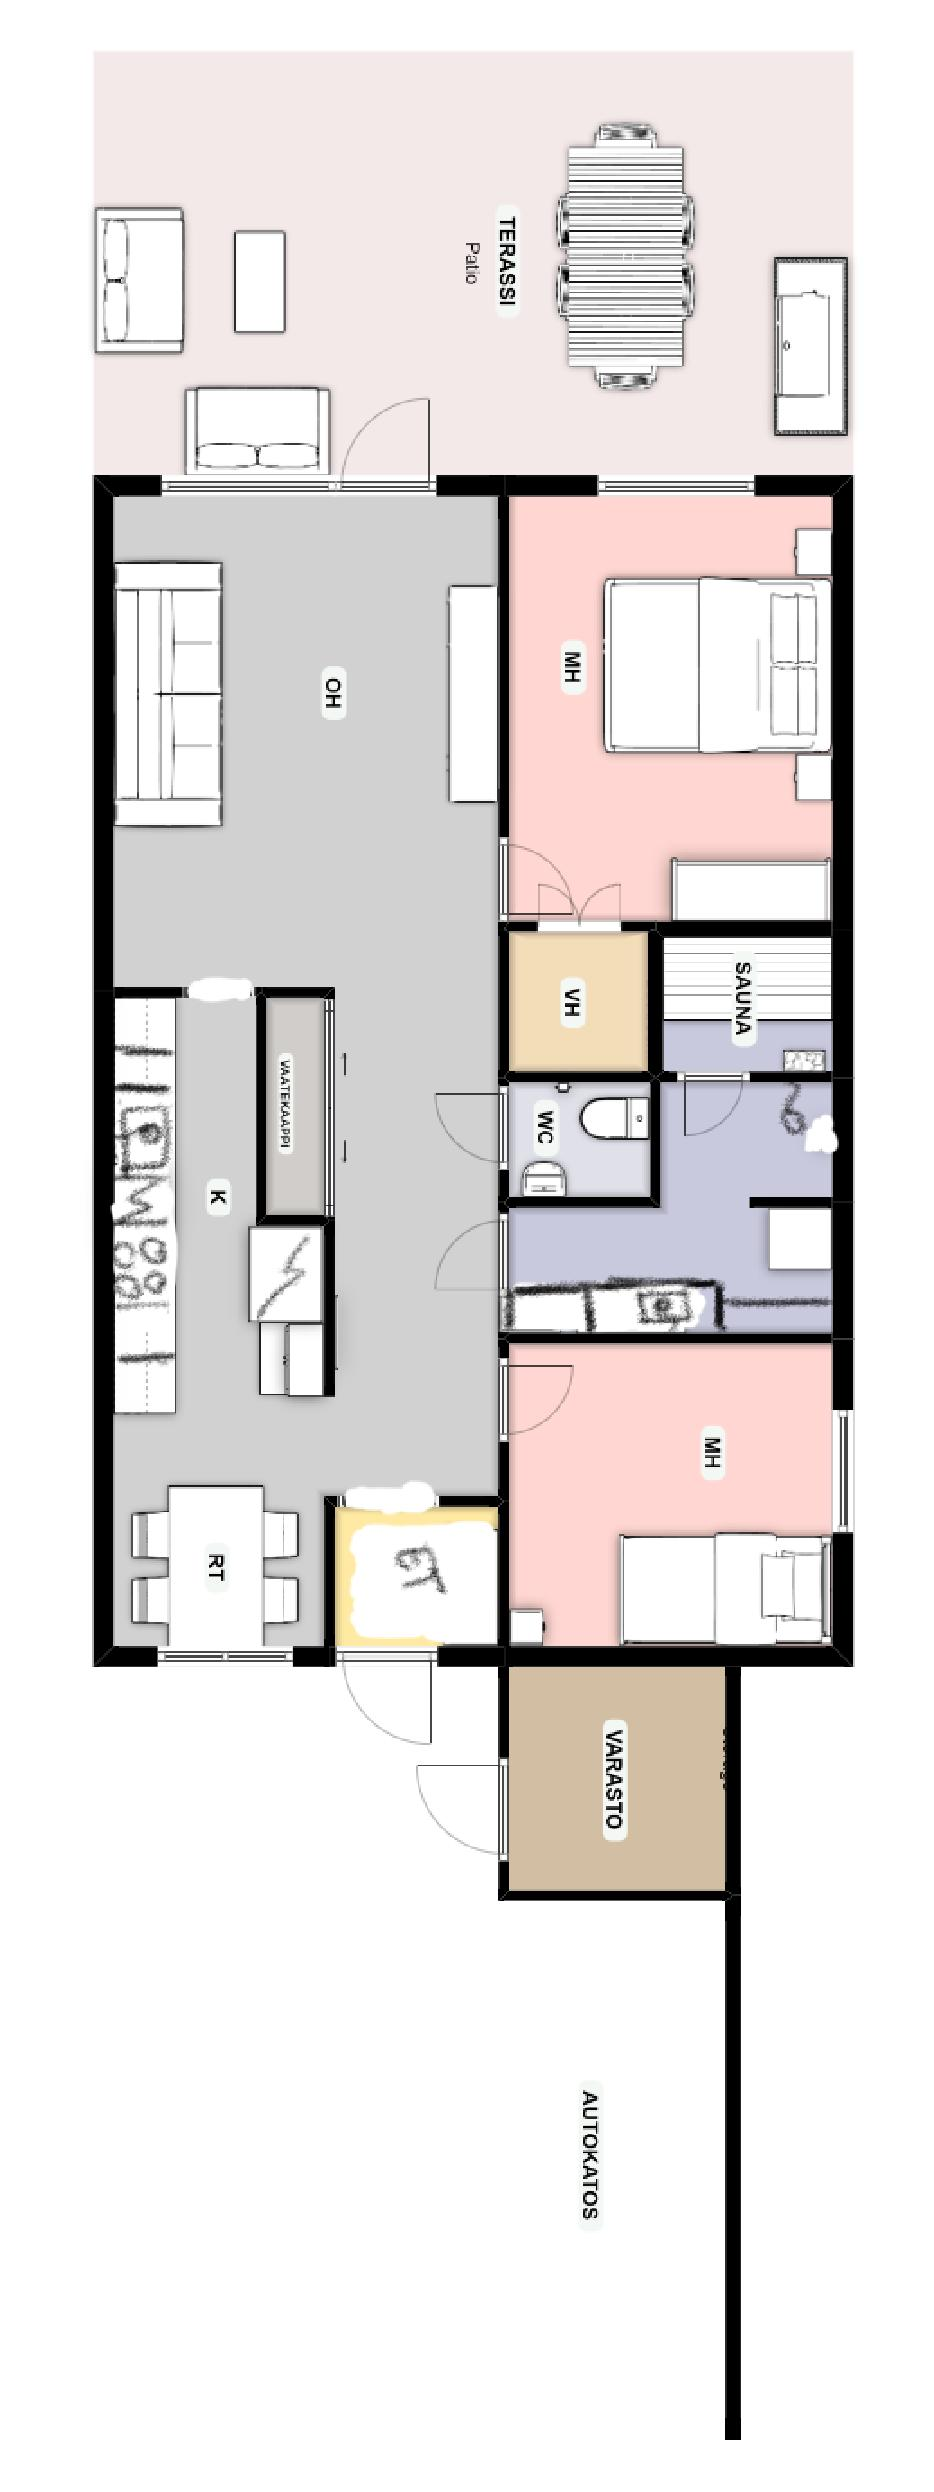door: (345, 1643, 454, 1766), (415, 1774, 526, 1856), (345, 405, 430, 509), (421, 1224, 527, 1303), (481, 1359, 594, 1432), (426, 1090, 515, 1163), (497, 845, 570, 914), (677, 1082, 750, 1130), (546, 880, 618, 927)
window: (815, 1410, 866, 1537), (157, 472, 321, 505), (605, 469, 750, 497), (156, 1640, 294, 1659)
zone: (114, 474, 494, 1631), (94, 48, 836, 472), (499, 923, 851, 1345), (518, 494, 831, 923), (494, 1337, 823, 1635), (510, 1659, 731, 1893), (507, 930, 654, 1062), (505, 1081, 650, 1186)
